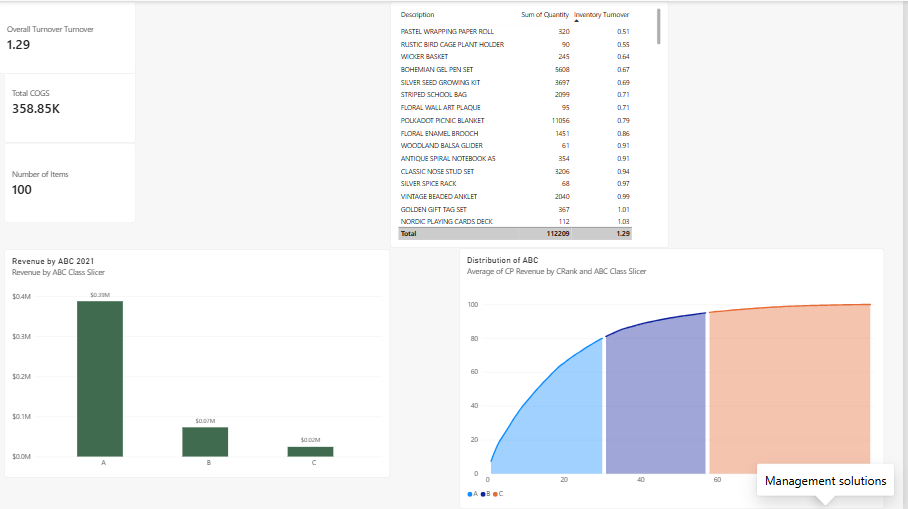

What the dashboard file says about the page in this screenshot:
{"tool":"powerbi","page":{"name":"Management solutions","canvas":[1920,1080],"ordinal":8},"visuals":[{"type":"cardVisual","fields":{"Data":["Orders_Raw.Total COGS"]},"box":[10.6,129.7,280.6,172.2],"z":1000},{"type":"cardVisual","fields":{"Data":["Costs.Number of Items"]},"box":[10.6,301.9,280.6,170.1],"z":2000},{"type":"clusteredColumnChart","title":"Revenue by ABC 2021","fields":{"Category":["Products.ABC Class Slicer"],"Y":["Orders_Raw.Revenue"]},"box":[10.1,526.6,821.4,486.3],"z":3000},{"type":"tableEx","fields":{"Values":["Products.Description","Sum(Orders_Raw.Quantity)","Stock.Inventory Turnover"]},"box":[831.3,0,593.1,525.1],"z":4000},{"type":"areaChart","title":"Distribution of ABC","fields":{"Category":["Products.CRank"],"Series":["Products.ABC Class Slicer"],"Y":["Avg(Products.CP Revenue)"]},"box":[978,525.1,903.5,554.9],"z":5000},{"type":"cardVisual","fields":{"Data":["Costs.Overall Turnover"]},"box":[0,0,291.3,155.2],"z":5001}]}

Visuals, with their boxes in screenshot pixels (x1, y1, x2, y2), scaled from the page's 1920x1080 canvas onto the 908x509 screenshot:
cardVisual - Orders_Raw.Total COGS: left=5, top=61, right=138, bottom=142
cardVisual - Costs.Number of Items: left=5, top=142, right=138, bottom=222
"Revenue by ABC 2021" clusteredColumnChart: left=5, top=248, right=393, bottom=477
tableEx - Products.Description x Sum(Orders_Raw.Quantity): left=393, top=0, right=674, bottom=247
"Distribution of ABC" areaChart: left=463, top=247, right=890, bottom=508
cardVisual - Costs.Overall Turnover: left=0, top=0, right=138, bottom=73
